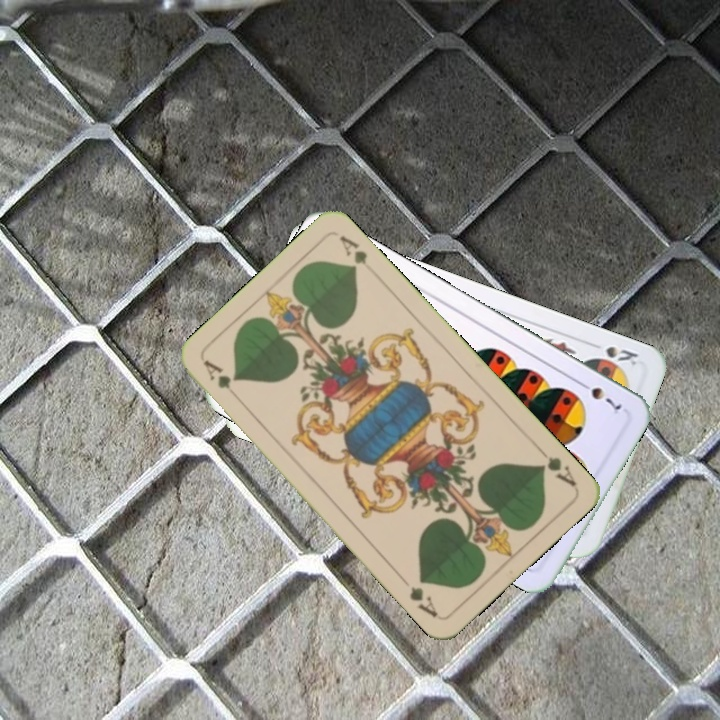GA: (533, 442, 579, 490), (199, 356, 245, 403)
S7: (574, 377, 624, 413)
SK: (601, 342, 642, 369)
